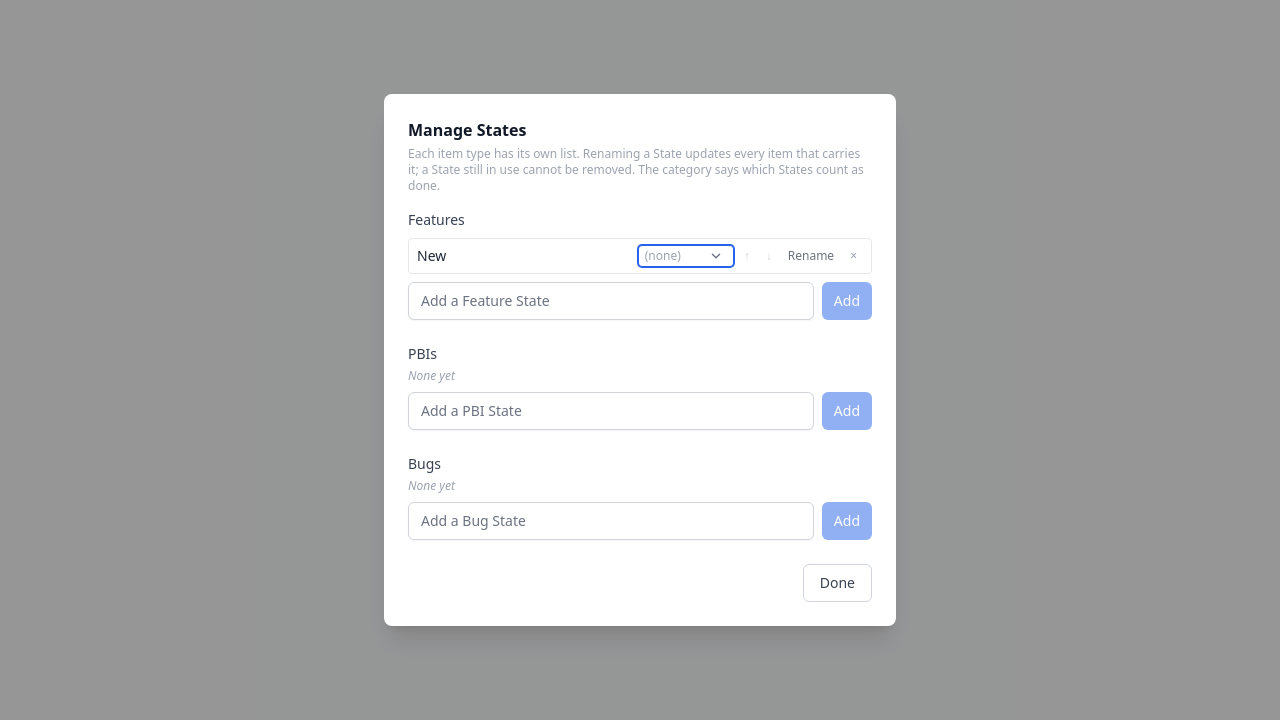
Test case: ProjectStatesModal › reports the backend message when an in-use State cannot be deleted
Click the button named "Delete New".
click(854, 256)  # box [844,246,863,266]
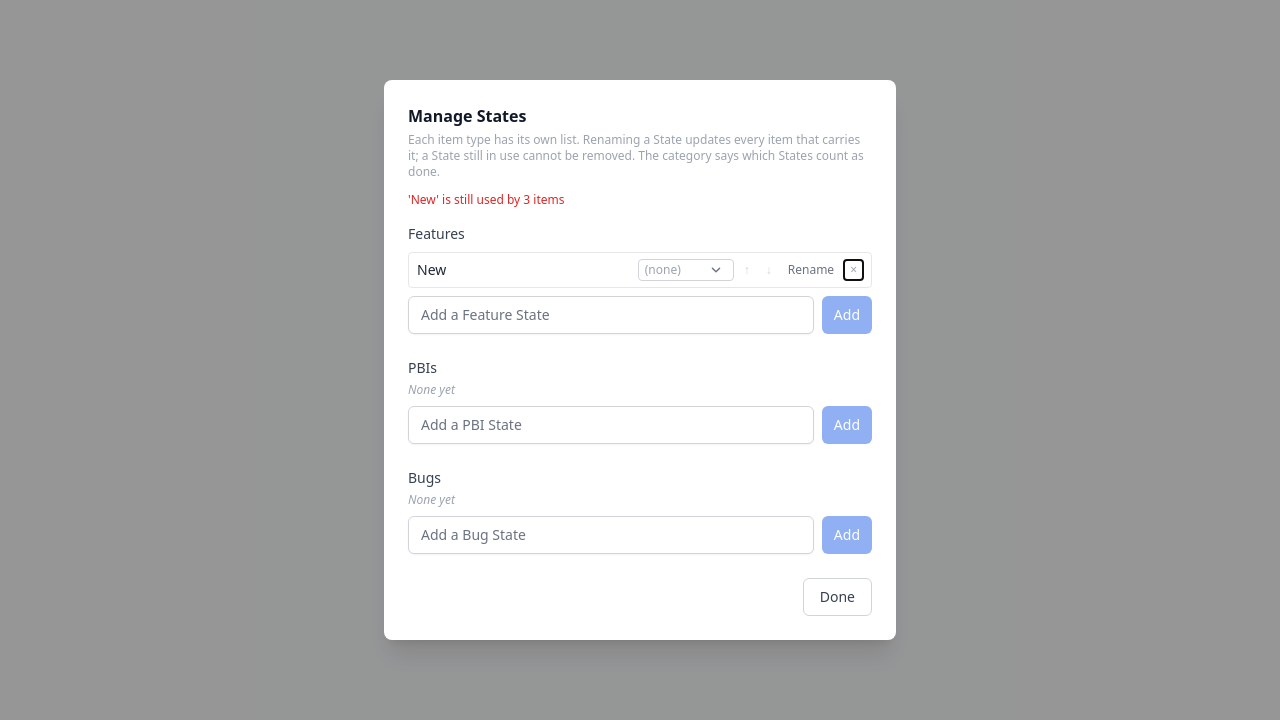
Expected: the message reads "'New' is still used by 3 items", [408,191,564,208]
